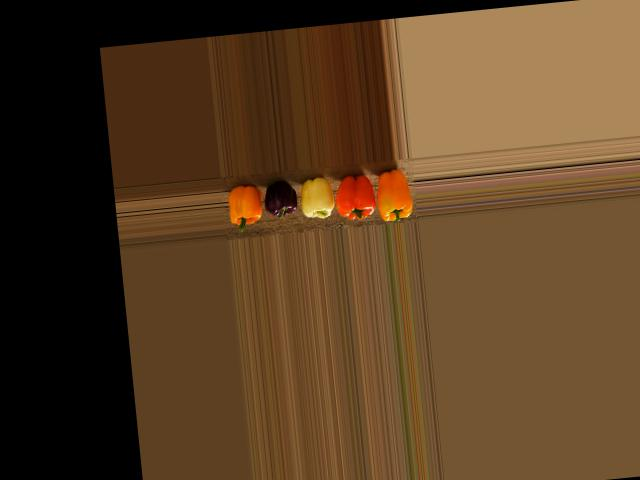bell_pepper: (222, 175, 261, 234)
